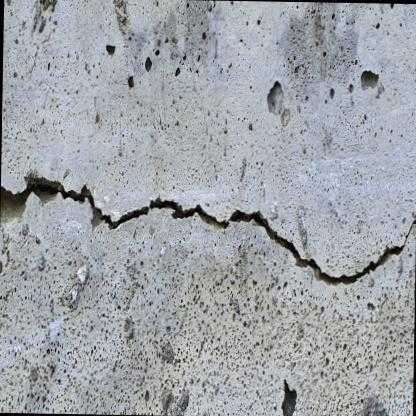crack: (0, 170, 416, 287)
